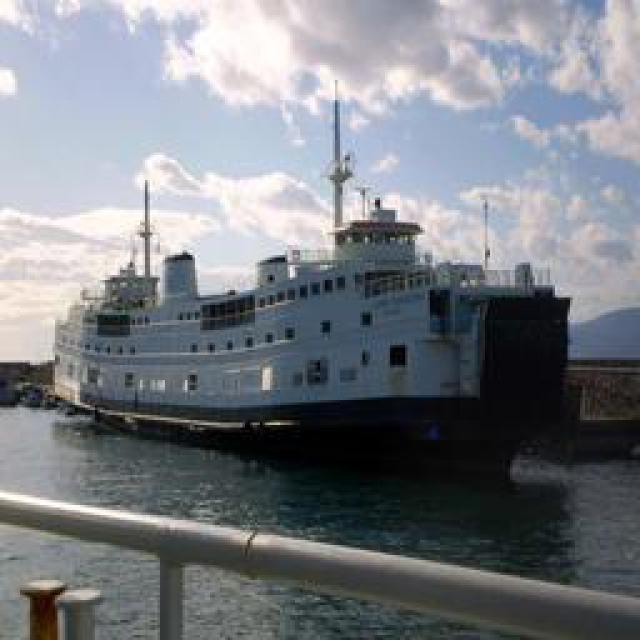Ship: (55, 106, 575, 446)
